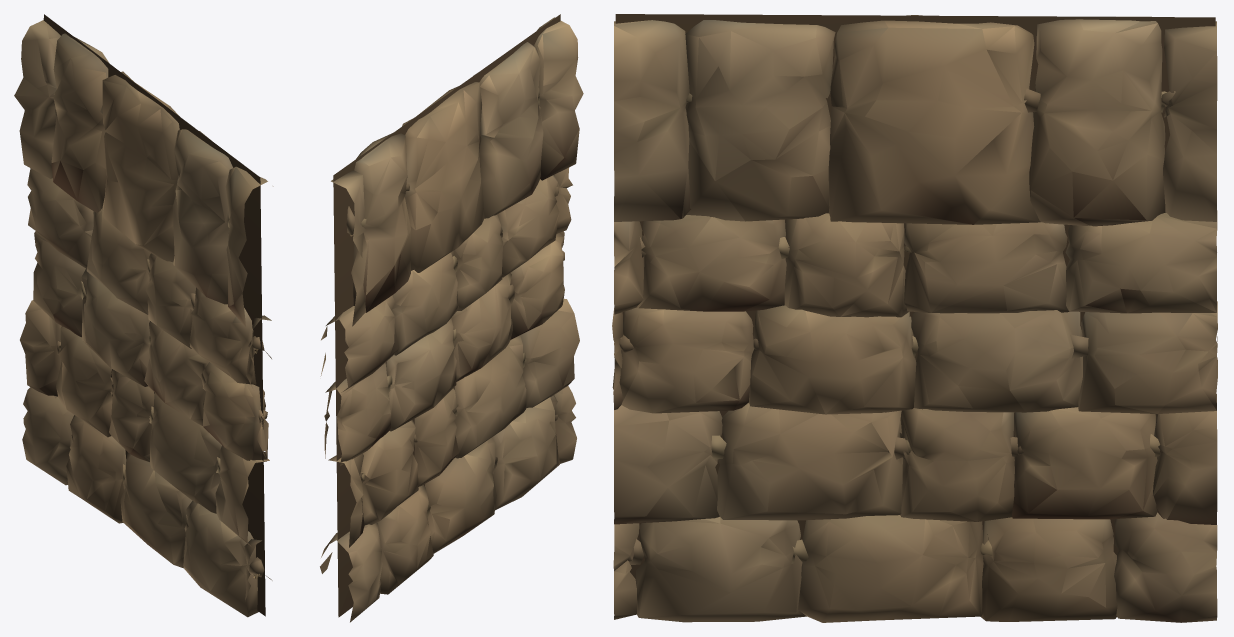
File: canopy_sack_wall_lod2.glb
3 renders of one model, left to right at view 1: azimuth 30°, elevation 25°; view 2: azimuth 150°, elevation 25°; view 3: azimuth 270°, elevation 25°, orthographic. The views are drawn at different scales.
Visible parts, largest first — view 1: canopy_sack_wall.001; view 2: canopy_sack_wall.001; view 3: canopy_sack_wall.001.
Boxes of the visible parts, box(x1,y1,x2,y2) form: canopy_sack_wall.001: box(14, 14, 273, 617); canopy_sack_wall.001: box(320, 14, 583, 622); canopy_sack_wall.001: box(612, 14, 1217, 622).
Bounding box in the file's own units: 5.71 × 44.02 × 40.32.
